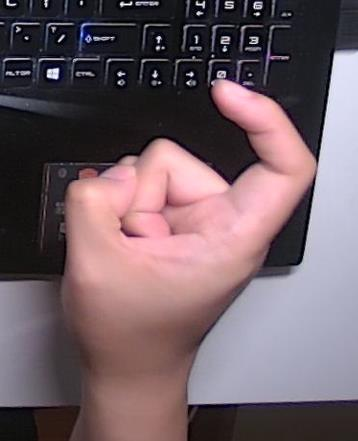anticlockwise: (46, 77, 324, 370)
